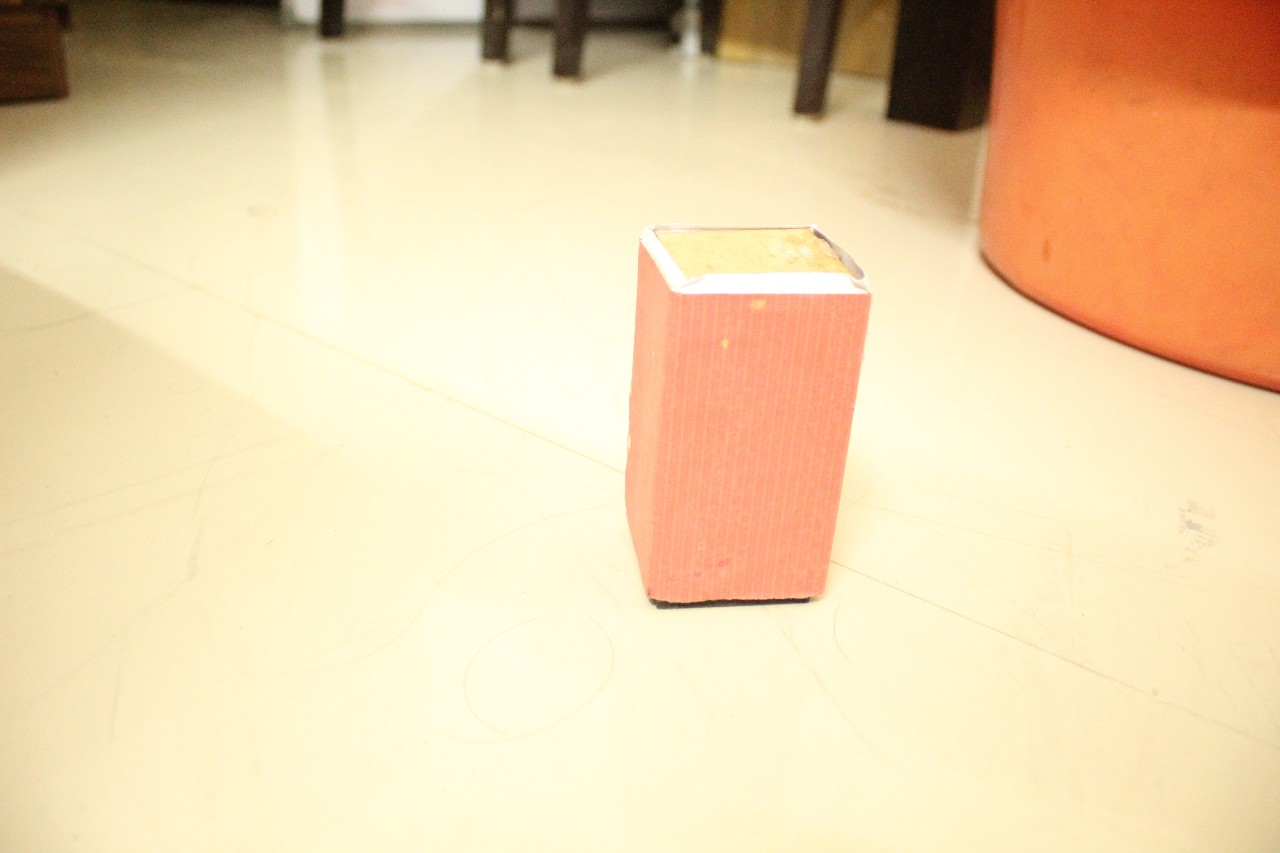red: (899, 0, 1280, 433), (654, 282, 876, 619), (0, 0, 77, 113)
